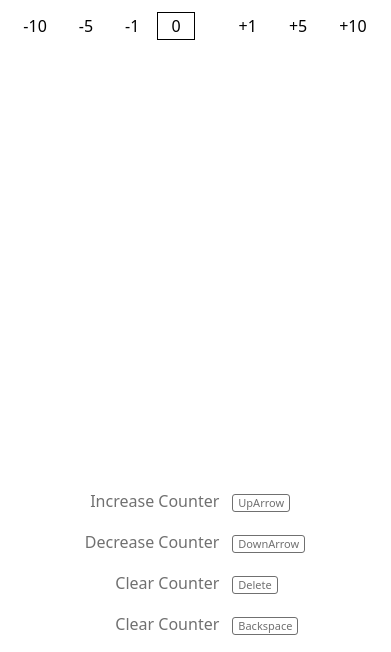
Test: EditorView › send edit signal
Step 1. Click the button "-10" → (35, 26), box [23,15,47,37]
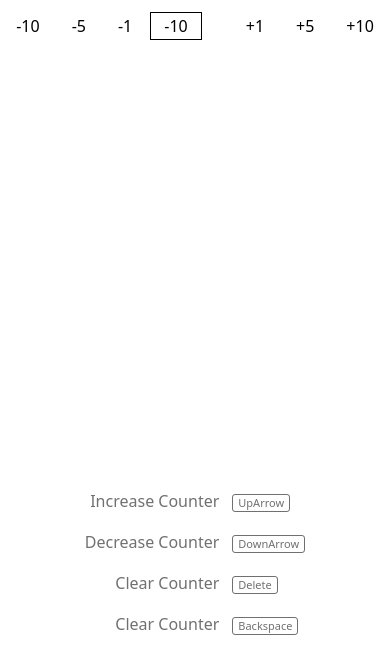
Now the text "-10" is shown, box [164,15,188,37]
